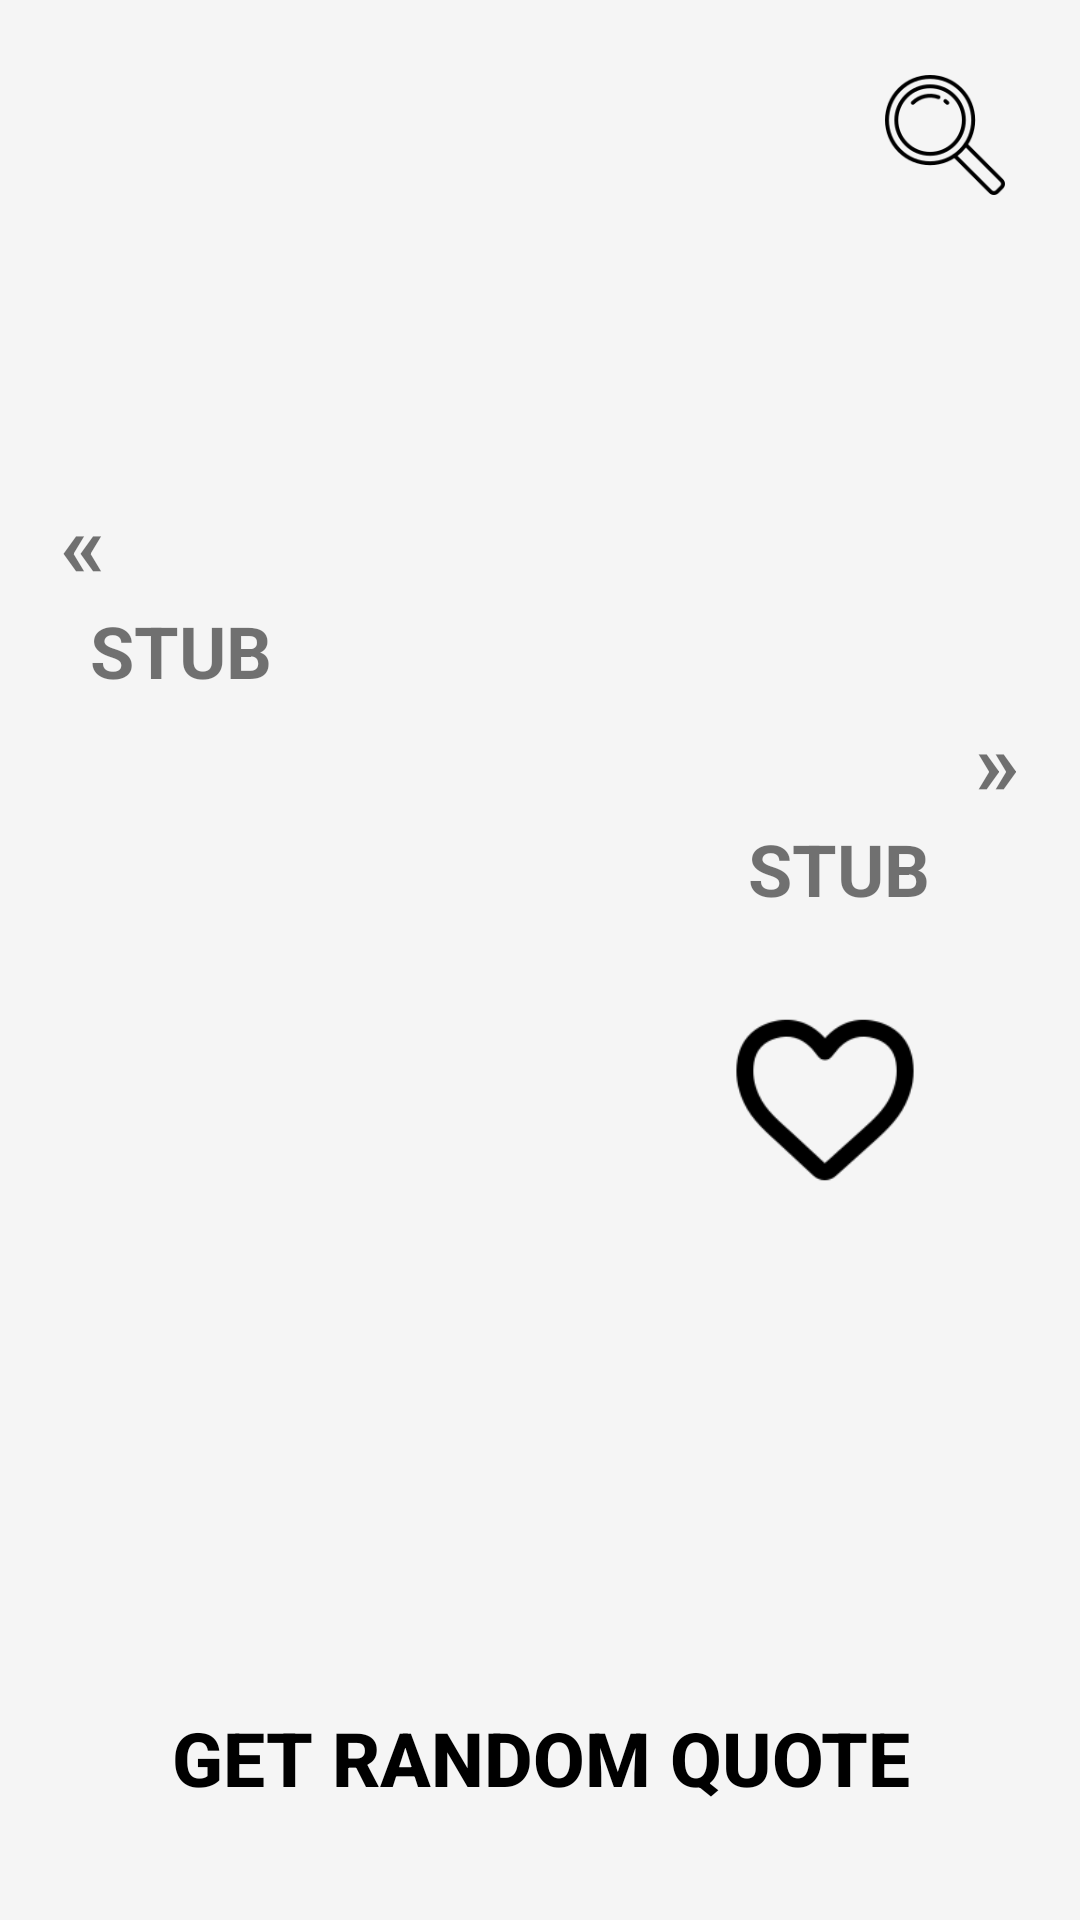

Icons on this 1080w x 1920h Android screen, each with its box as (x1, y1, x2, y2):
search: (885, 75, 1005, 195)
unfilled heart: (736, 1019, 914, 1181)
